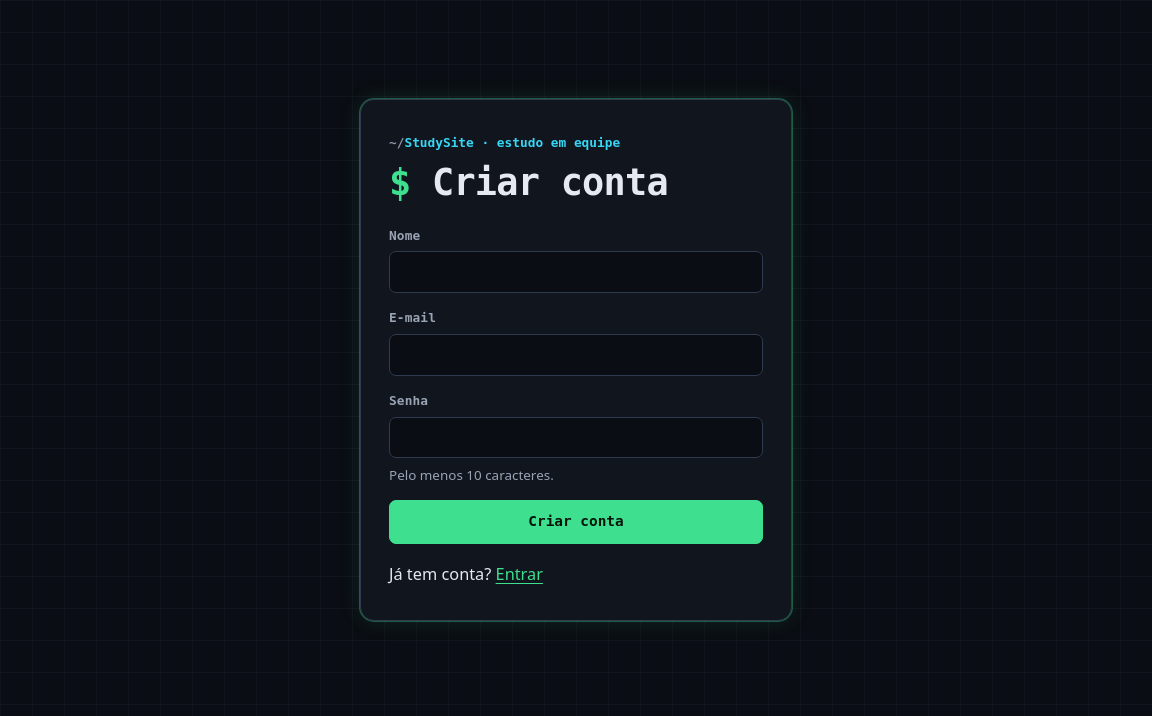
Scenario: autenticação › cria conta e entra direto
Type "Lia" into the field labelled "Nome".
click(576, 272); type("Lia")  # box x1=389 y1=251 x2=763 y2=293
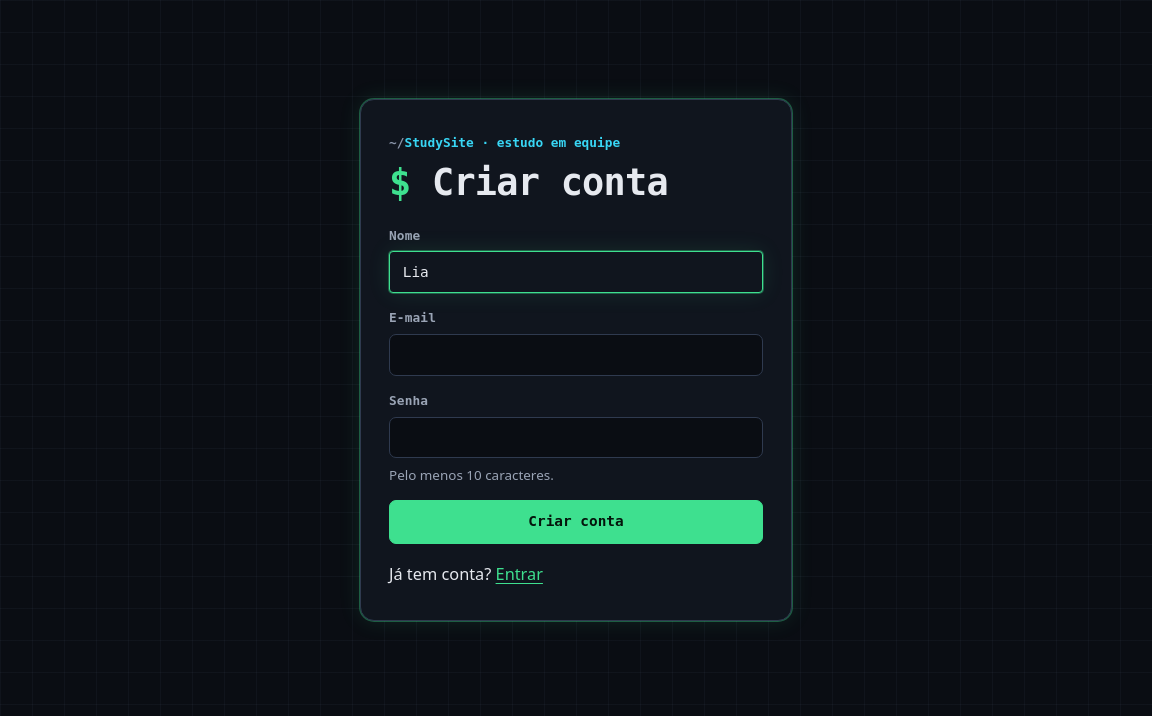
Type "lia@example.test" into the field labelled "E-mail".
click(576, 355); type("lia@example.test")  # box x1=389 y1=334 x2=763 y2=376
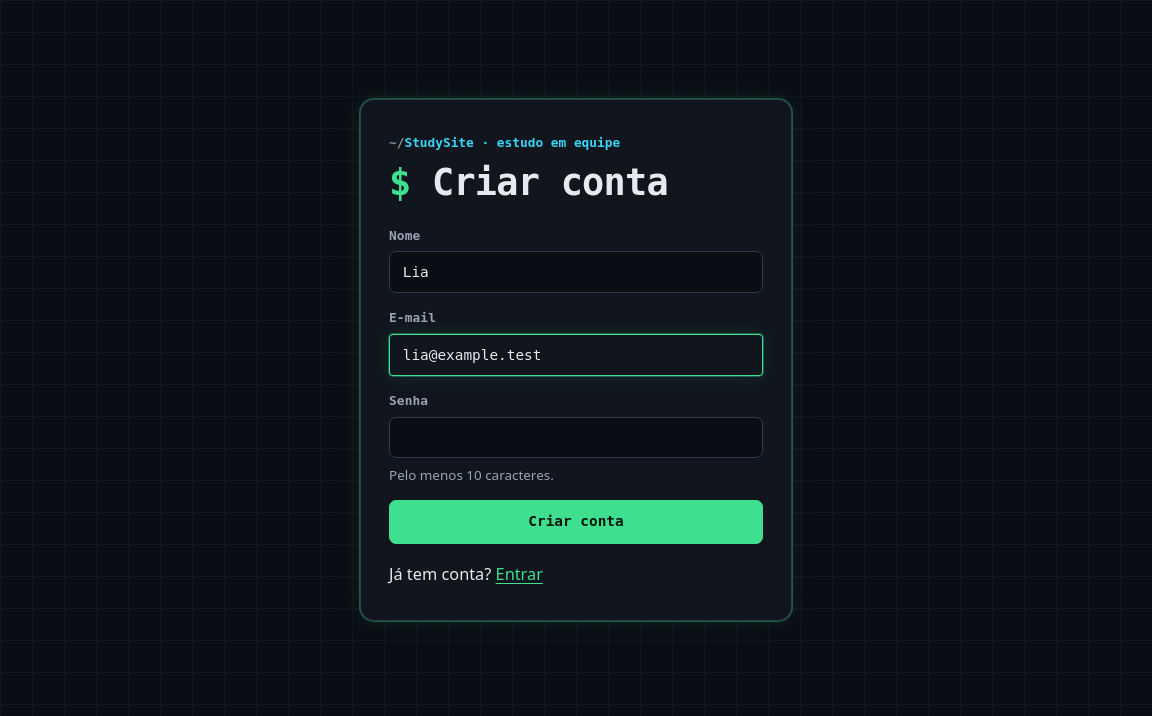
Type "senha-segura-123" into the password field labelled "Senha".
click(576, 438); type("senha-segura-123")  # box x1=389 y1=417 x2=763 y2=458
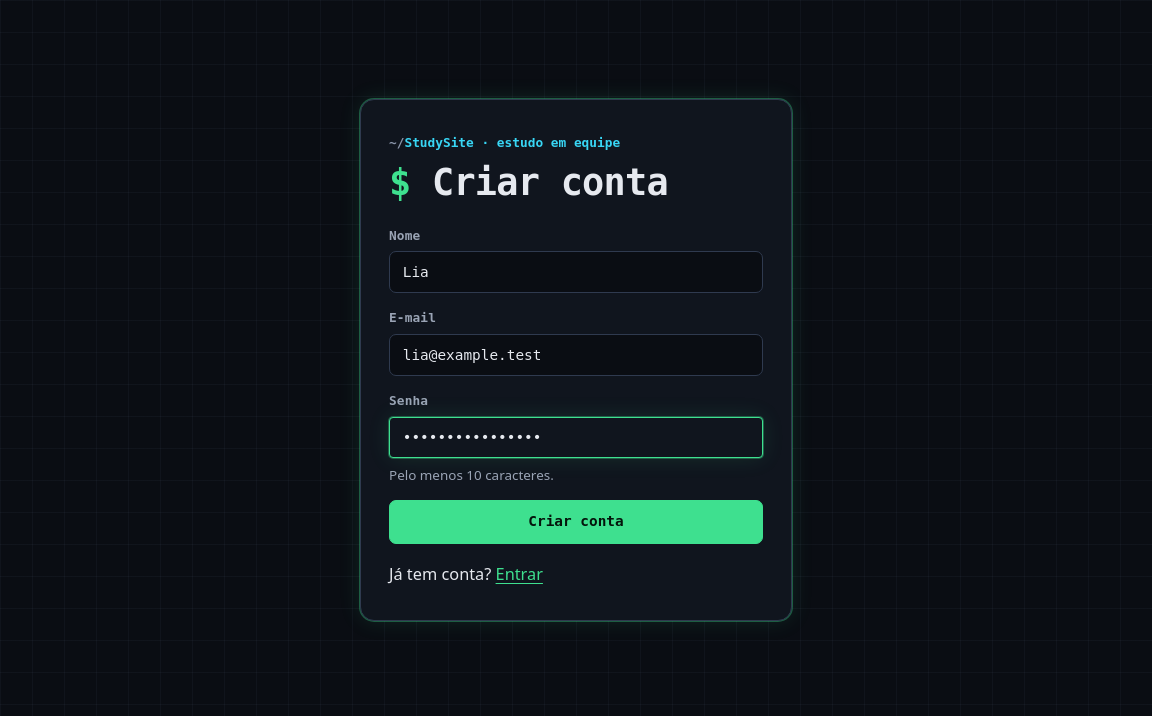
Click the button "Criar conta".
click(576, 522)  # box x1=389 y1=500 x2=763 y2=544
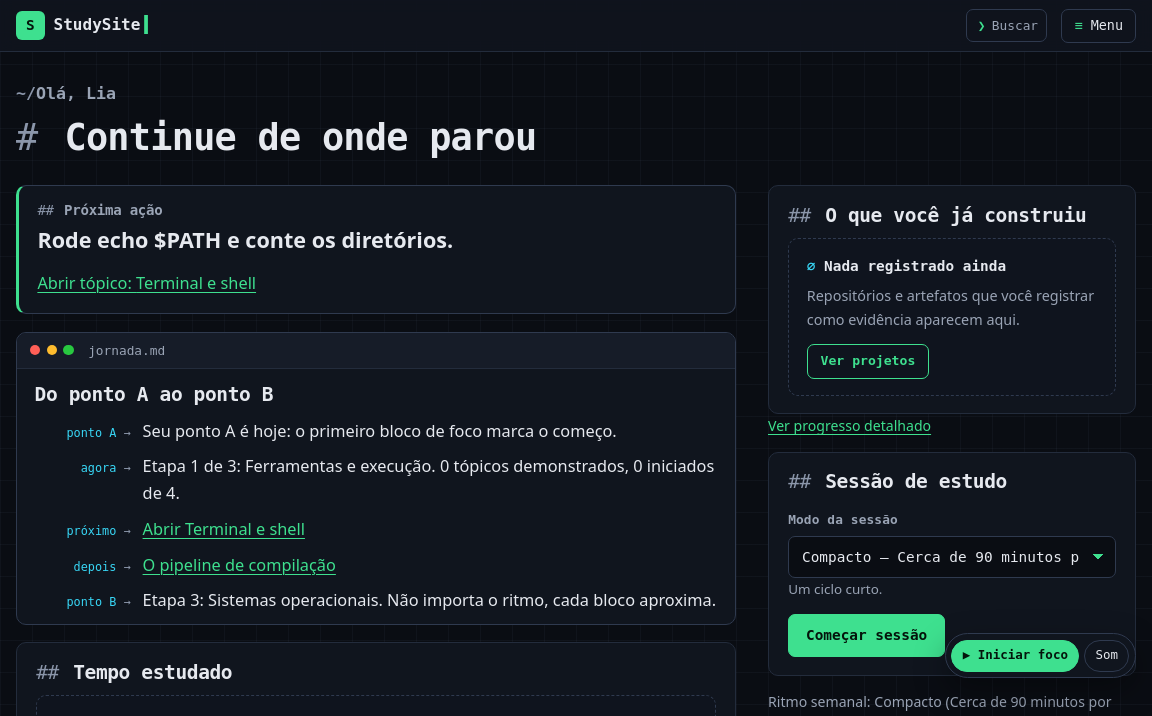
Expected: the heading "Continue de onde parou" is shown, x1=64 y1=116 x2=536 y2=159
